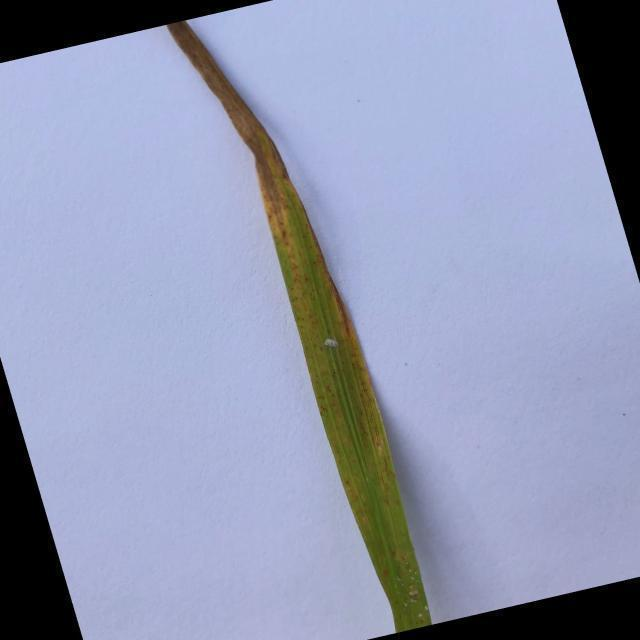Rice Tungro: (160, 21, 365, 348)
